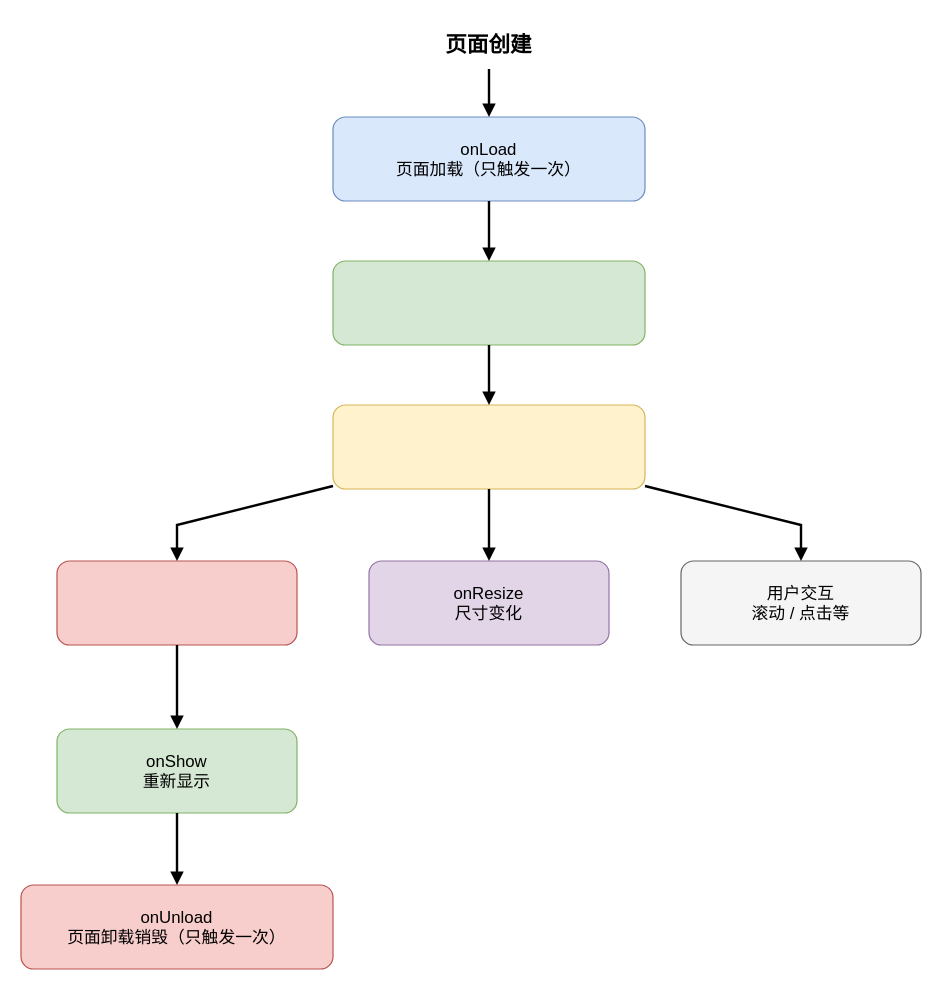
The diagram is 942 pixels wide and 990 high, and some of its shapes have lost their labels. The box of each missing label's shape, as (x1, y1, x2, y2) in pixels:
onHide 隐藏: (56, 560, 297, 645)
onReady 初次渲染完成（只触发一次）: (332, 404, 645, 489)
onShow 页面显示/切入前台: (332, 260, 645, 345)
